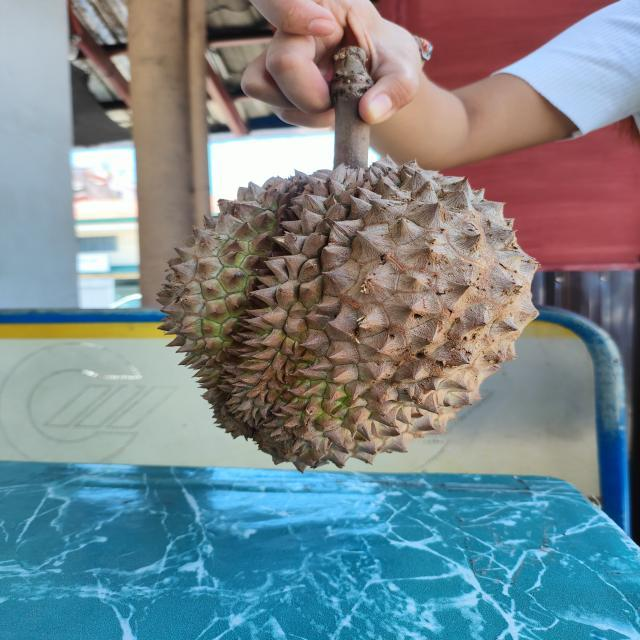mature: (155, 156, 543, 474)
